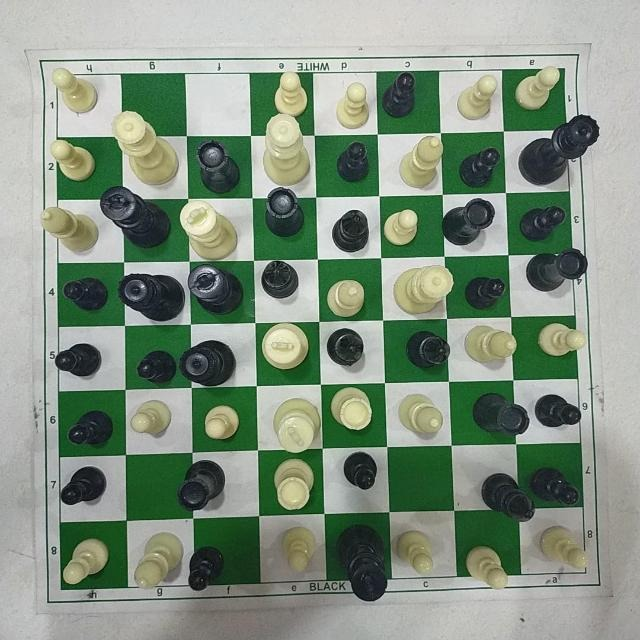black-bishop: (481, 470, 538, 522), (404, 327, 454, 372), (329, 207, 372, 253), (260, 257, 300, 301), (325, 325, 364, 369)
black-king: (335, 521, 393, 608), (99, 185, 173, 251), (185, 262, 247, 316)
black-pawn: (59, 462, 107, 506), (52, 340, 104, 378), (185, 543, 224, 593), (520, 202, 570, 240), (67, 408, 115, 447), (535, 393, 583, 431), (383, 69, 419, 119), (59, 275, 107, 312), (461, 147, 505, 187), (342, 449, 381, 492), (133, 350, 179, 386), (464, 274, 508, 307), (337, 138, 369, 182)
black-queen: (516, 109, 601, 186), (117, 269, 185, 321), (178, 337, 237, 387)
black-rook: (470, 387, 533, 437), (525, 246, 589, 294), (177, 459, 227, 514), (441, 196, 496, 244), (192, 137, 241, 190), (263, 185, 306, 237)
white-bishop: (129, 529, 185, 595), (38, 203, 100, 249), (463, 320, 522, 364), (397, 132, 445, 186), (397, 392, 444, 438), (327, 278, 369, 316)
white-king: (173, 196, 242, 258), (272, 396, 321, 457), (262, 320, 312, 372)
white-pawn: (47, 59, 100, 114), (453, 72, 504, 126), (60, 534, 110, 589), (540, 523, 592, 573), (538, 318, 590, 362), (463, 544, 511, 591), (48, 135, 94, 183), (395, 526, 435, 578), (126, 396, 174, 438), (277, 523, 317, 572), (383, 206, 425, 250), (338, 78, 374, 129), (272, 64, 310, 110), (202, 403, 240, 442)
white-queen: (109, 107, 177, 185), (261, 112, 311, 186), (392, 264, 454, 314)
white-rook: (327, 383, 374, 439), (272, 458, 316, 514)
